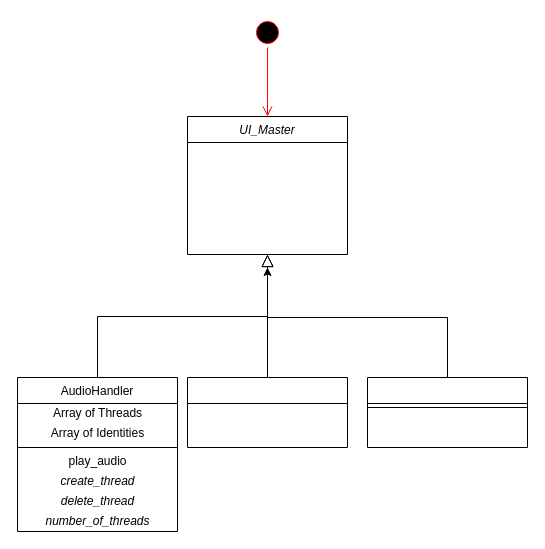
The diagram is 545 pixels wide and 549 high, and some of its shapes have lost their labels. The centre of each missing label's shape, as x and y in pixels:
LanguageChecker: [267,412]
LanguageHandler: [447,412]
